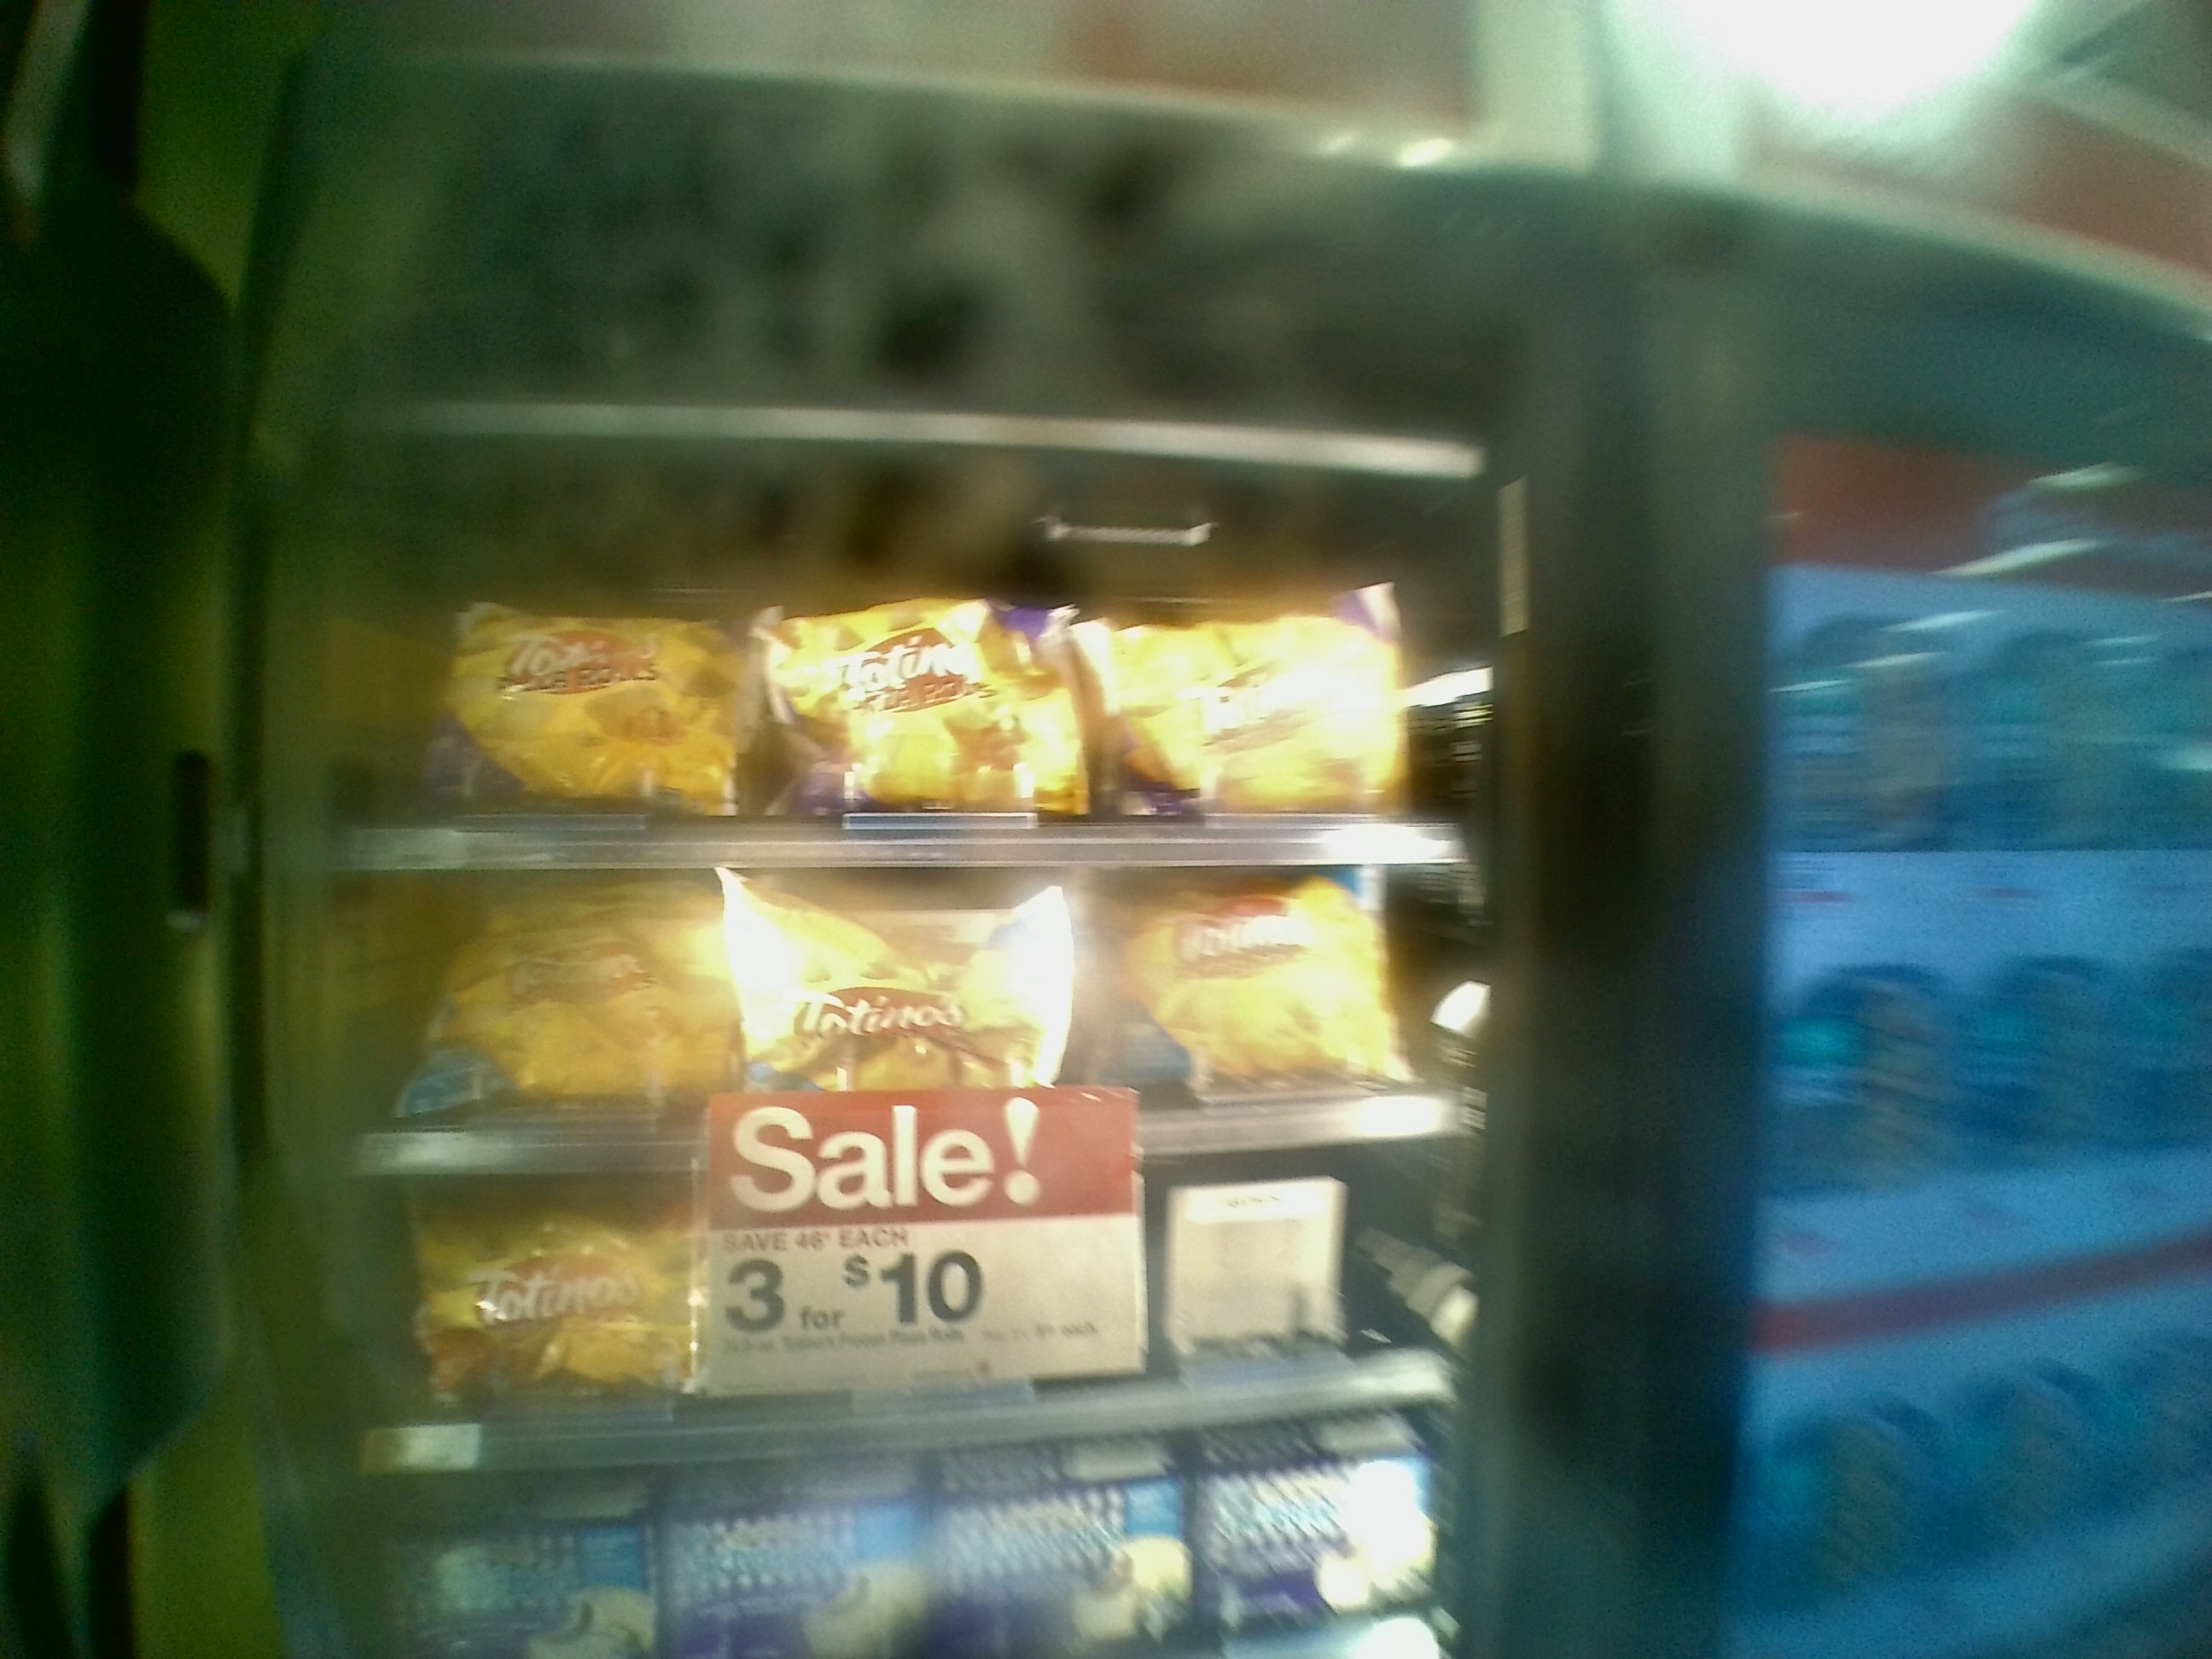shelf: (307, 455, 1480, 870), (327, 843, 1484, 1171), (317, 1157, 1451, 1432)
